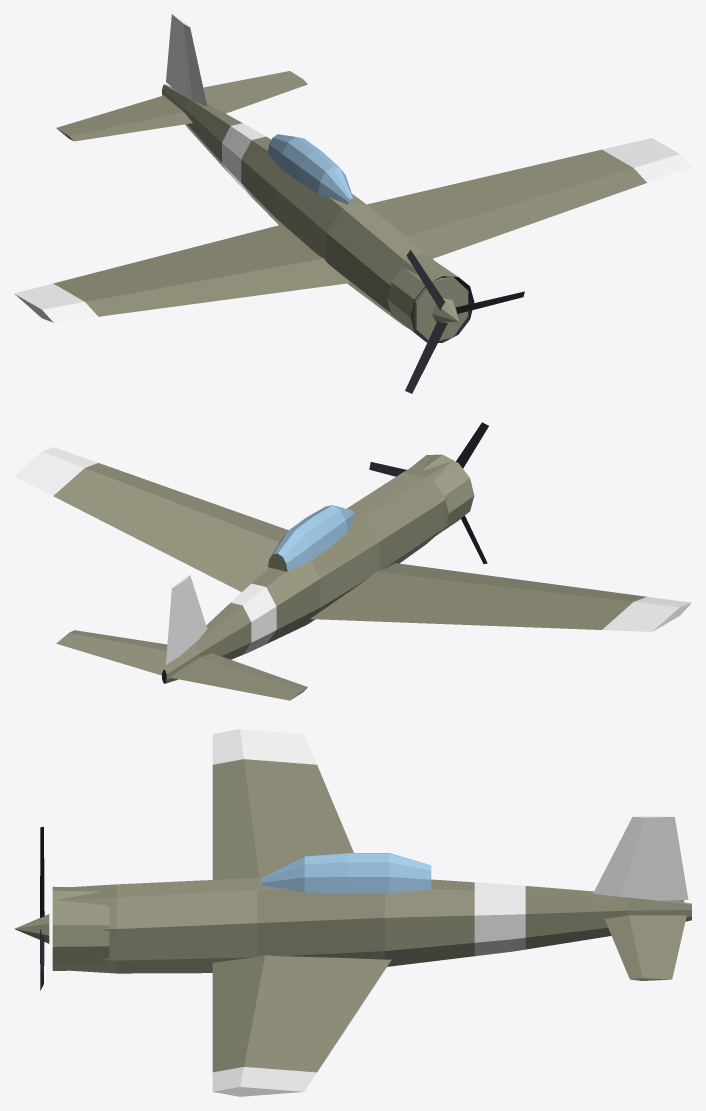
3 views of the same model, one above another, from view 1: azimuth 30°, elevation 25°; view 2: azimuth 150°, elevation 25°; view 3: azimuth 270°, elevation 25° (orthographic). The views are drawn at different scales.
Parts seen in each view (by area): view 1: body, prop; view 2: body, prop; view 3: body, prop.
Boxes of the visible parts, x1,y1,x2,y2 form: body: [14, 14, 691, 342]; prop: [405, 250, 524, 393]; body: [14, 447, 691, 700]; prop: [369, 422, 488, 563]; body: [52, 729, 691, 1096]; prop: [14, 826, 49, 990].
Bounding box in the file's own units: 12 × 3.04 × 9.61.
